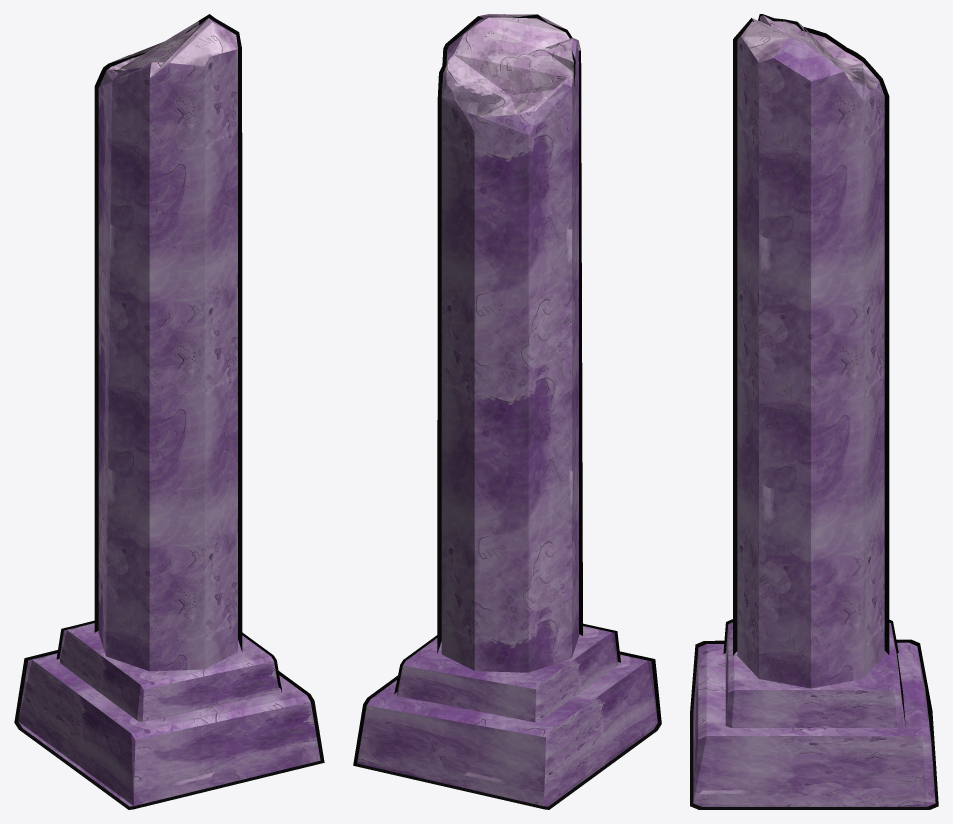
File: entity17238.gltf
The picture shows the model from 3 angles, left to right: view 1: azimuth 30°, elevation 25°; view 2: azimuth 150°, elevation 25°; view 3: azimuth 270°, elevation 25°; orthographic projection. The views are drawn at different scales.
Visible parts, largest first — view 1: node_Str_Ruins_04_2 (3); view 2: node_Str_Ruins_04_2 (3); view 3: node_Str_Ruins_04_2 (3).
Part boxes in pixels (x1,y1,x2,y2): node_Str_Ruins_04_2 (3): (14,14,324,809); node_Str_Ruins_04_2 (3): (353,14,661,809); node_Str_Ruins_04_2 (3): (690,14,938,809).
Size of what is drawn, in the model's own units: 1.69 by 6.14 by 1.86.
